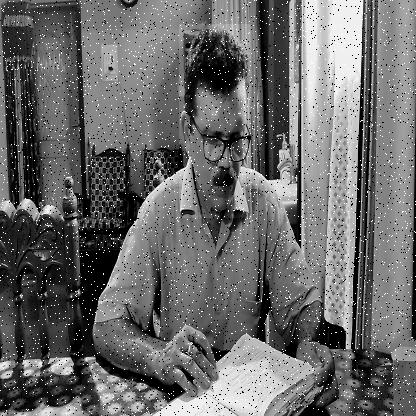Normal: (179, 24, 251, 218)
